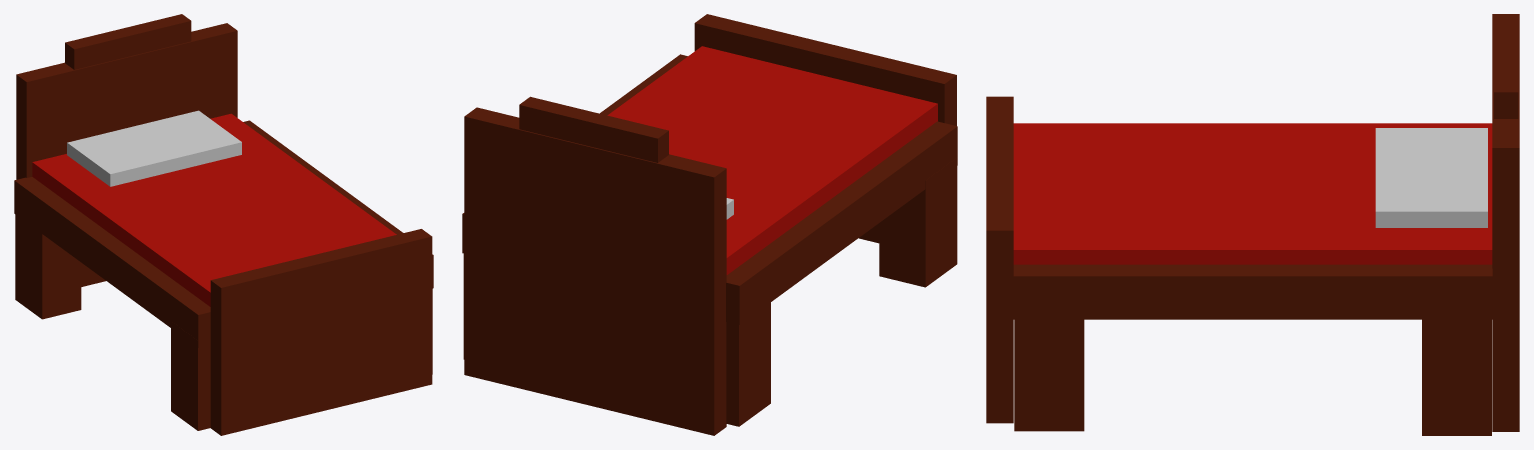
File: bed.fbx
3 views of the same model, side by side, from view 1: azimuth 30°, elevation 25°; view 2: azimuth 150°, elevation 25°; view 3: azimuth 270°, elevation 25° (orthographic). The views are drawn at different scales.
Visible parts, largest first — view 1: Cube.001, Cube, Cube.009, Cube.010, Cube.003, Cube.008, Cube.002, Cube.007, Cube.004; view 2: Cube.009, Cube, Cube.010, Cube.001, Cube.007, Cube.002, Cube.008, Cube.004; view 3: Cube, Cube.004, Cube.003, Cube.009, Cube.001, Cube.006, Cube.005, Cube.002.
Boxes of the visible parts, x1,y1,x2,y2 form: Cube.001: [210, 229, 432, 435]; Cube: [32, 113, 396, 306]; Cube.009: [16, 23, 237, 286]; Cube.010: [14, 177, 210, 347]; Cube.003: [67, 110, 241, 186]; Cube.008: [15, 214, 81, 319]; Cube.002: [65, 14, 191, 69]; Cube.007: [171, 321, 210, 430]; Cube.004: [243, 120, 433, 288]; Cube.009: [464, 107, 726, 435]; Cube: [607, 46, 937, 274]; Cube.010: [726, 121, 957, 324]; Cube.001: [694, 14, 956, 243]; Cube.007: [879, 157, 957, 287]; Cube.002: [519, 96, 668, 162]; Cube.008: [726, 302, 770, 426]; Cube.004: [462, 54, 687, 253]; Cube: [1013, 123, 1492, 264]; Cube.004: [1013, 264, 1492, 319]; Cube.003: [1375, 128, 1487, 227]; Cube.009: [1492, 14, 1519, 431]; Cube.001: [986, 96, 1013, 423]; Cube.006: [1422, 319, 1491, 435]; Cube.005: [1014, 319, 1084, 431]; Cube.002: [1494, 17, 1518, 118].
Size of the model in its own units: 143 by 139 by 217.
